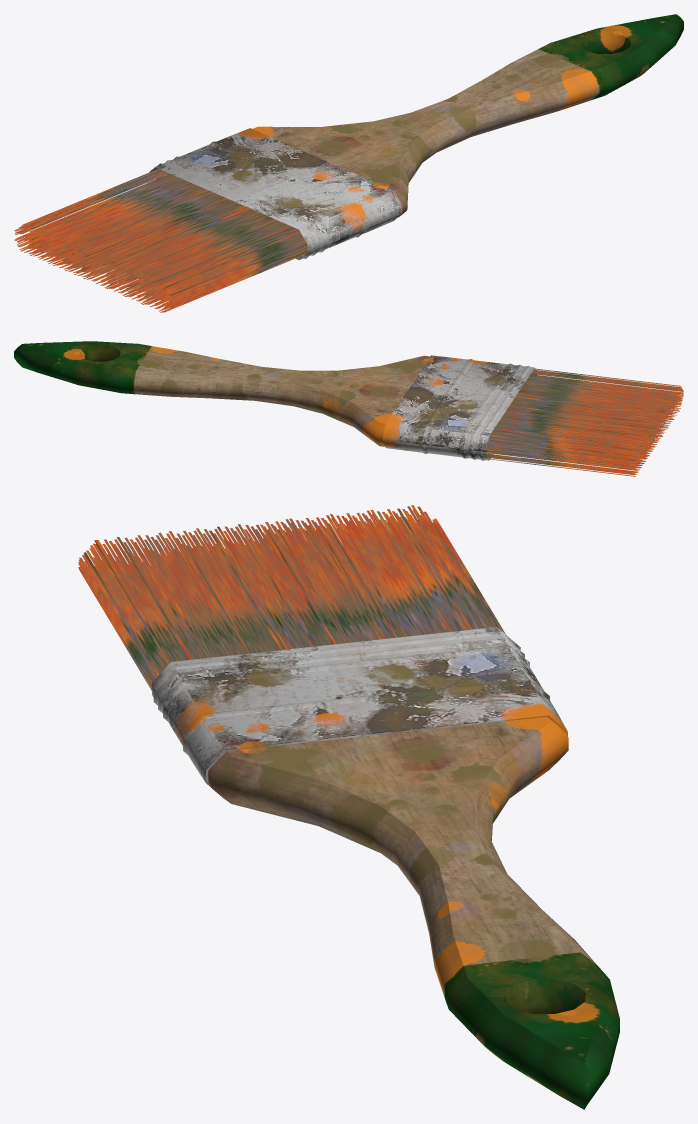
Rendered from paintbrush_0.glb.
3 renders of one model, top to bottom at view 1: azimuth 30°, elevation 25°; view 2: azimuth 150°, elevation 25°; view 3: azimuth 270°, elevation 25°, orthographic. The views are drawn at different scales.
Visible parts, largest first — view 1: f74bfe01ca1e459b8c730a8881ea88bb; view 2: f74bfe01ca1e459b8c730a8881ea88bb; view 3: f74bfe01ca1e459b8c730a8881ea88bb.
Boxes of the visible parts, box(x1,y1,x2,y2) form: f74bfe01ca1e459b8c730a8881ea88bb: box(14, 14, 683, 312); f74bfe01ca1e459b8c730a8881ea88bb: box(14, 341, 683, 476); f74bfe01ca1e459b8c730a8881ea88bb: box(78, 505, 619, 1109).
Size of the model in its own units: 0.9676 by 0.0417 by 0.3905.
2 materials, 2 textured.
